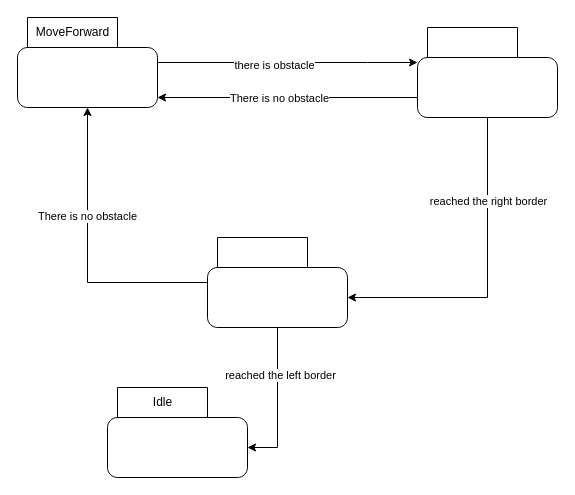
This 575x495 diagram has some shape labels left out. Here are the shapes that lost their labels. From the top down, the centre of each, then its label:
the point at 487,72: Go Right
the point at 277,282: Go Left
